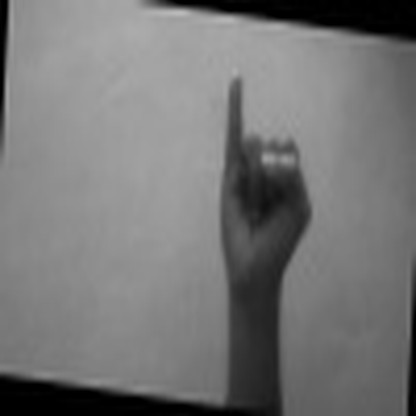i: (202, 55, 322, 310)
